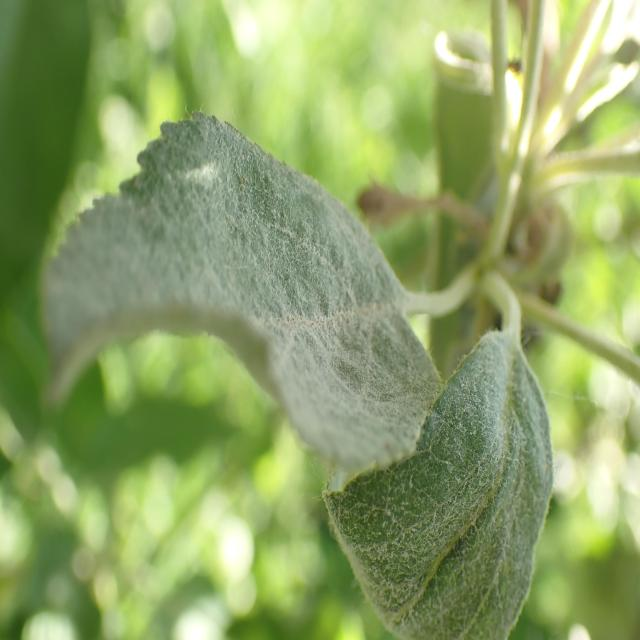Powdery_mildew: (57, 103, 435, 463), (315, 291, 559, 640)
